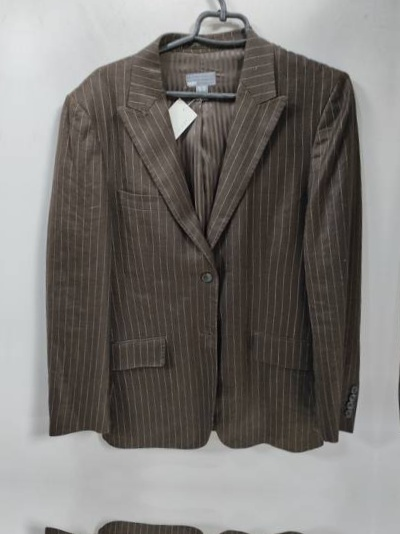Blazer: (23, 19, 380, 463), (3, 514, 359, 534), (390, 34, 400, 478), (0, 3, 2, 447), (369, 529, 400, 534)
